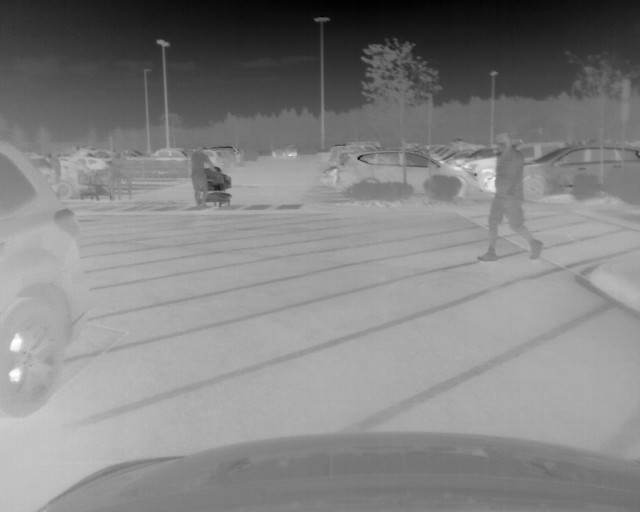car: (1, 138, 87, 414), (336, 148, 480, 203), (521, 143, 640, 199), (468, 141, 570, 194), (216, 146, 241, 169), (272, 143, 299, 160), (153, 147, 188, 160)
people: (478, 133, 544, 261), (189, 146, 214, 210), (110, 152, 123, 200), (124, 160, 135, 200)
